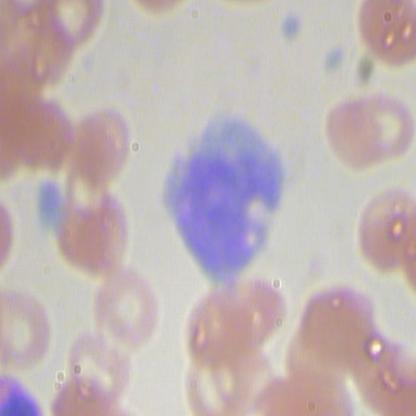Platelets: (318, 40, 347, 74), (278, 10, 307, 43), (31, 179, 60, 212)
RBC: (216, 272, 297, 371), (166, 279, 247, 378), (51, 184, 138, 275), (68, 94, 155, 185), (301, 90, 387, 181), (302, 270, 374, 369), (344, 177, 415, 276), (91, 267, 162, 360), (62, 314, 133, 406), (8, 92, 80, 179), (172, 340, 252, 415), (342, 82, 415, 164), (1, 280, 58, 373), (350, 1, 415, 74)
WBC: (157, 101, 297, 288)
